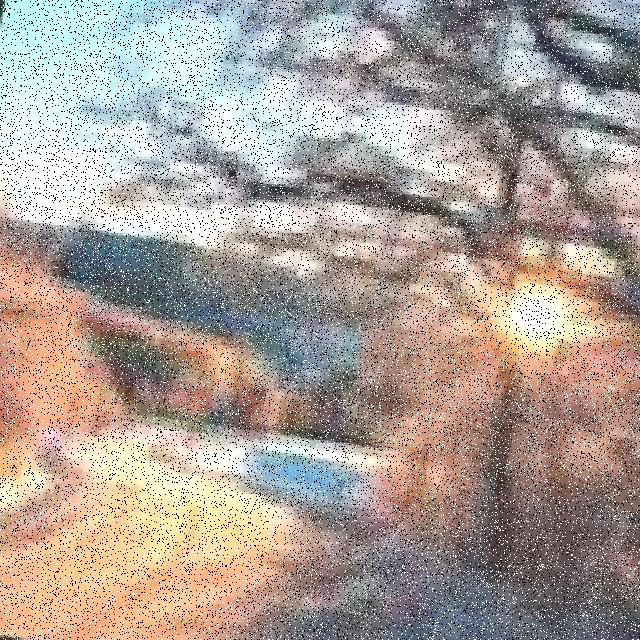clear-road: (0, 434, 360, 640)
